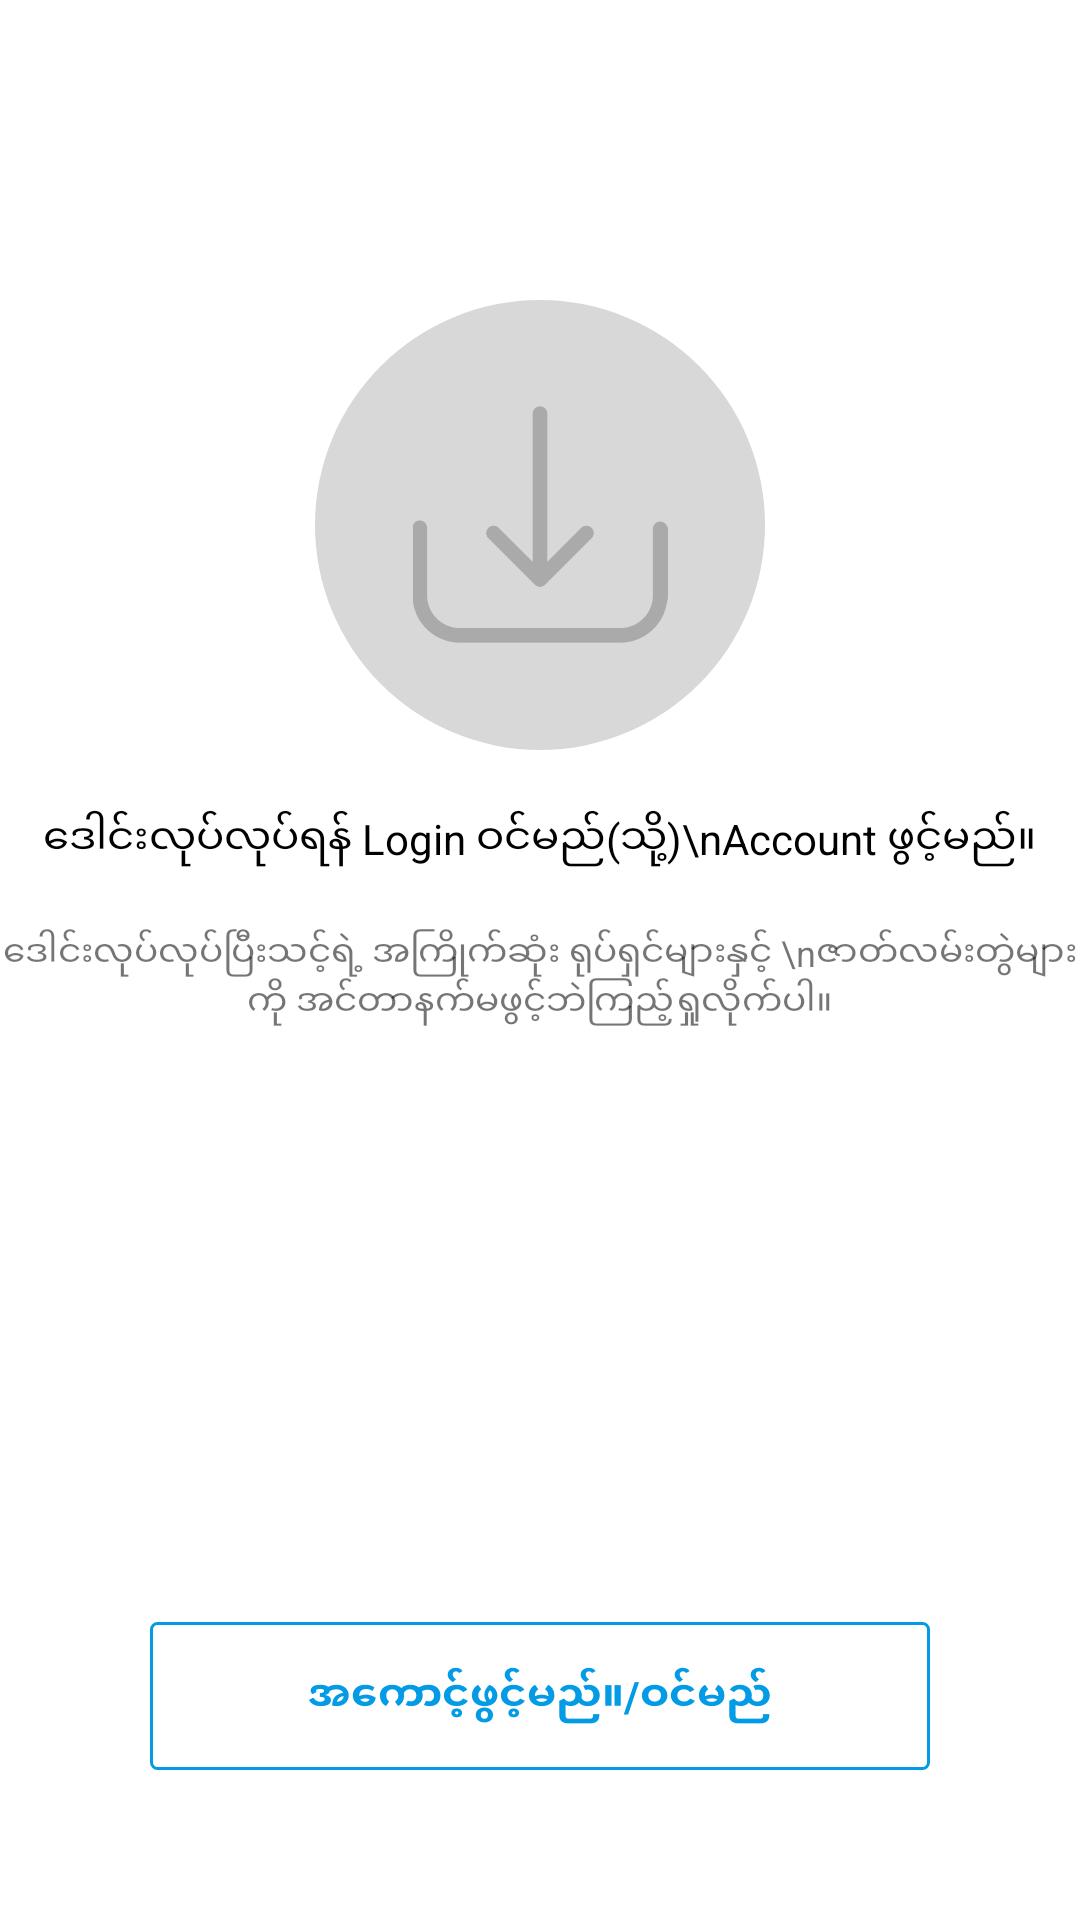

Screen size 1080*1920. Icon name, then its center in pixels as (x=x, y=y):
download: (x=540, y=524)
